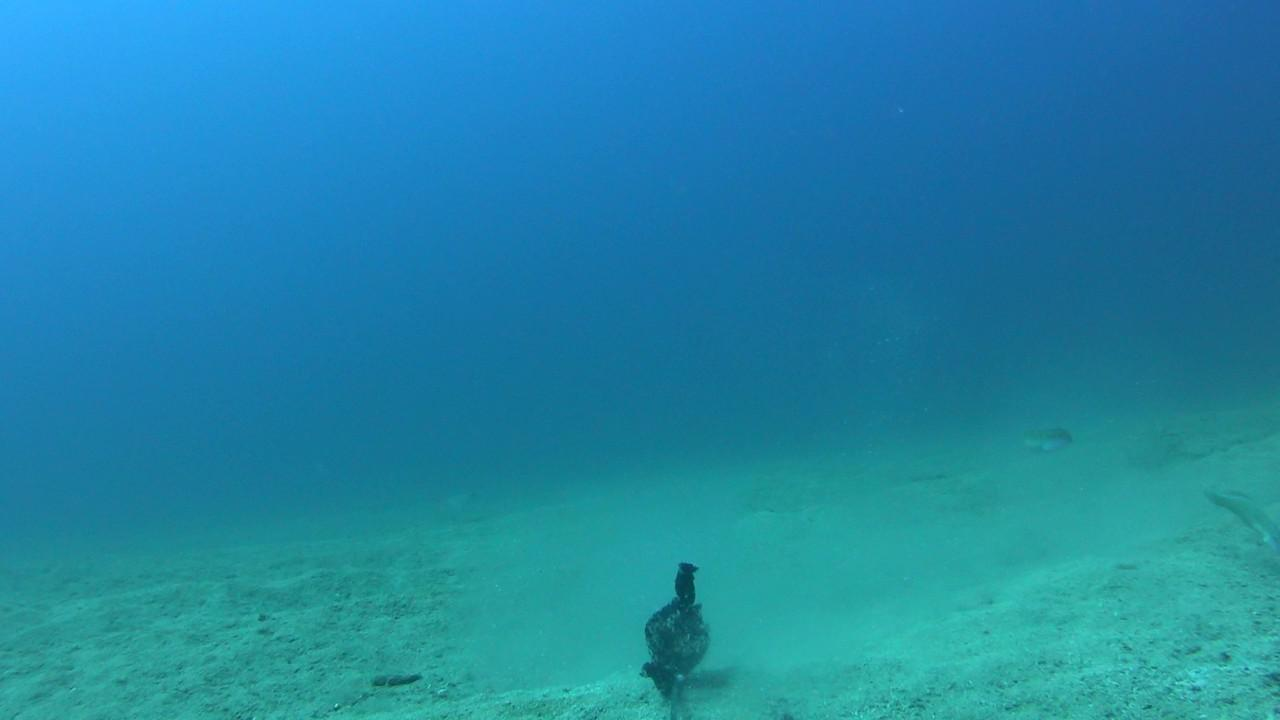myliobatis: (416, 459, 496, 527)
